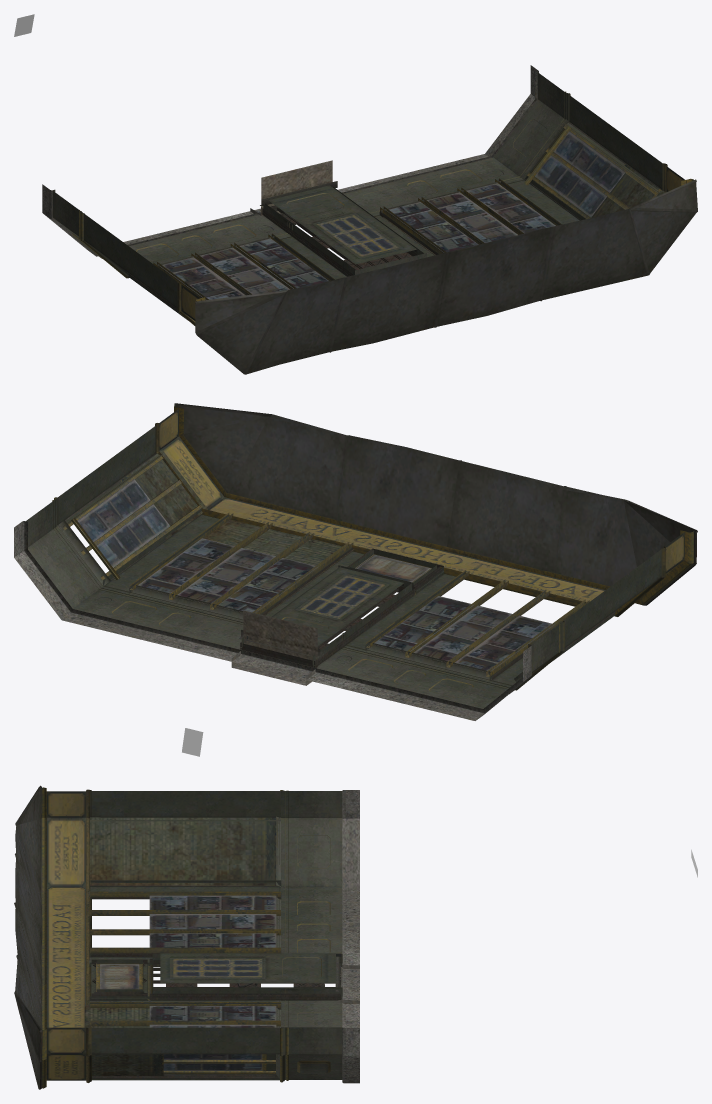
The model's file is env_112_05_ShopWindow_01.glb.
3 views of the same model, one above another, from view 1: azimuth 30°, elevation 25°; view 2: azimuth 150°, elevation 25°; view 3: azimuth 270°, elevation 25° (orthographic). The views are drawn at different scales.
Visible parts, largest first — view 1: set_0_group_0; view 2: set_0_group_0; view 3: set_0_group_0.
Boxes of the visible parts, x1,y1,x2,y2 form: set_0_group_0: (42,65,697,374); set_0_group_0: (14,403,697,720); set_0_group_0: (14,785,359,1089).
Bounding box in the file's own units: 7.24 × 1.31 × 8.55.
Materials: 2 (1 with a texture image).
